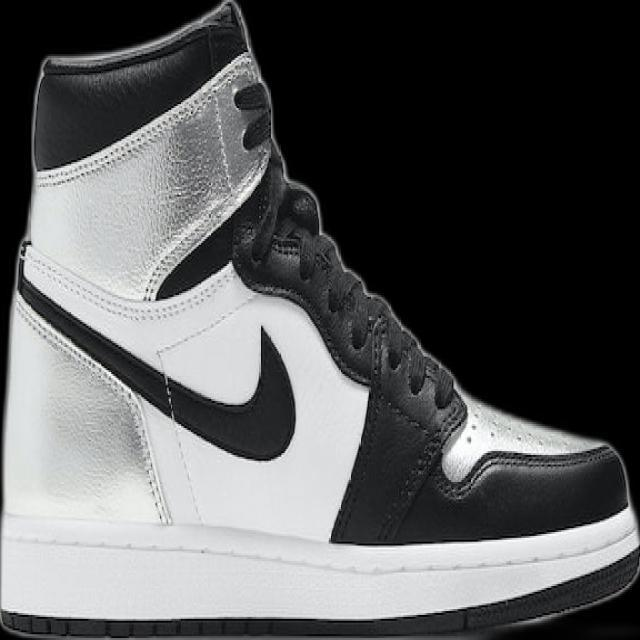J1_InsoleChar: (0, 0, 638, 638)
J1_StitchPattern: (2, 506, 637, 634), (233, 175, 464, 427), (12, 265, 297, 464), (12, 281, 175, 525), (34, 49, 272, 189), (134, 50, 266, 300), (17, 242, 238, 323), (292, 229, 398, 366), (12, 294, 133, 411), (374, 395, 468, 542), (443, 440, 622, 499), (153, 360, 207, 526), (123, 391, 173, 526), (229, 77, 274, 153)
